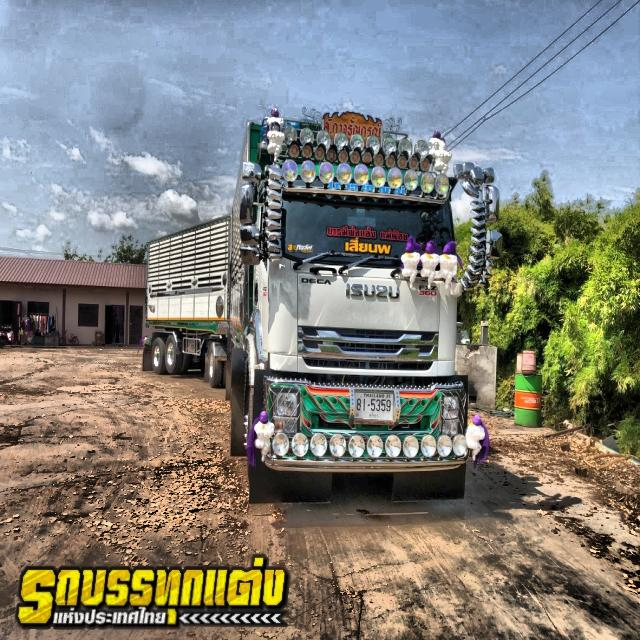trailer: (138, 87, 503, 519)
